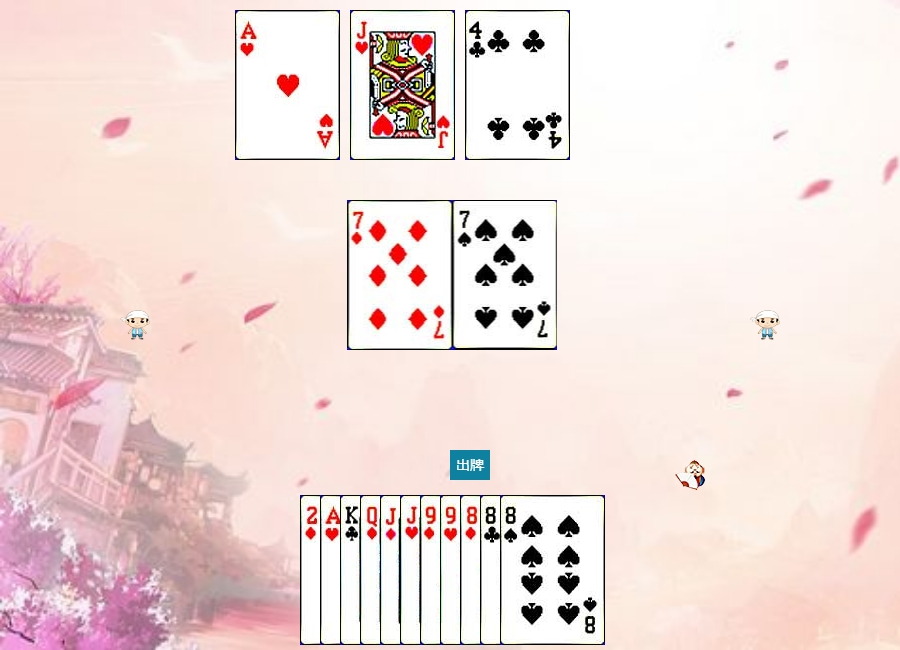11~1: (380, 495, 485, 645)
11~3: (350, 10, 455, 160), (400, 495, 505, 645)
12~1: (360, 495, 465, 645)
13~2: (340, 495, 445, 645)
14~3: (235, 10, 340, 160), (320, 495, 425, 645)
15~1: (300, 495, 405, 645)
4~2: (465, 10, 570, 160)
7~1: (348, 200, 453, 350)
7~4: (453, 200, 558, 350)
8~1: (460, 495, 565, 645)
8~2: (480, 495, 585, 645)
8~4: (500, 495, 605, 645)
9~1: (420, 495, 525, 645)
9~3: (440, 495, 545, 645)
